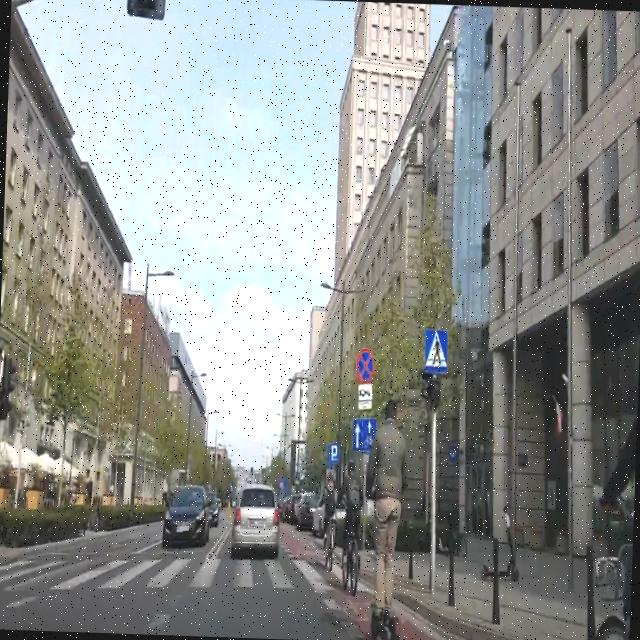Przejscie dla pieszych: (423, 326, 449, 374)
Zakaz zatrzymywania sie: (354, 346, 376, 383)
